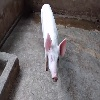heo: (43, 32, 67, 83)
